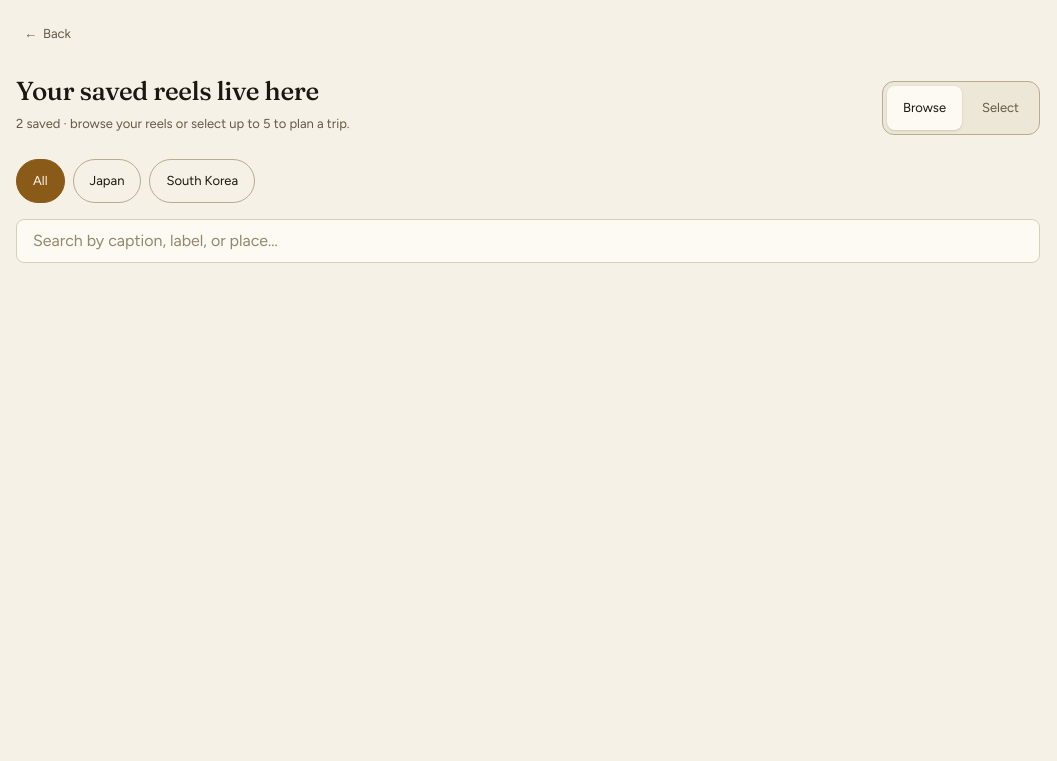
Test case: LibraryPanel › narrows the list to a chosen country filter chip
This screenshot has width=1057, height=761.
Click the button "Select" at {"x": 1000, "y": 108}, box [966,86,1035,130]
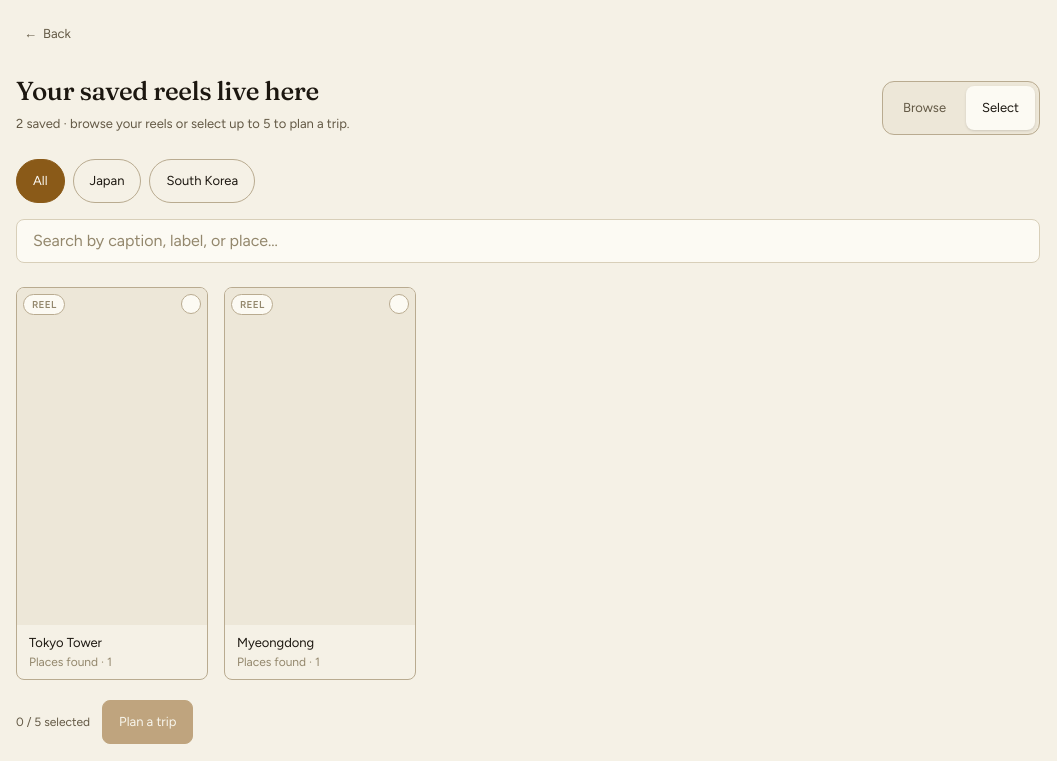
Check: the text "Tokyo Tower" is shown, box [29,635,102,650]
Check: the text "Myeongdong" is shown, box [237,635,314,650]
Click the button "Japan" at {"x": 107, "y": 180}, box [72,158,141,202]
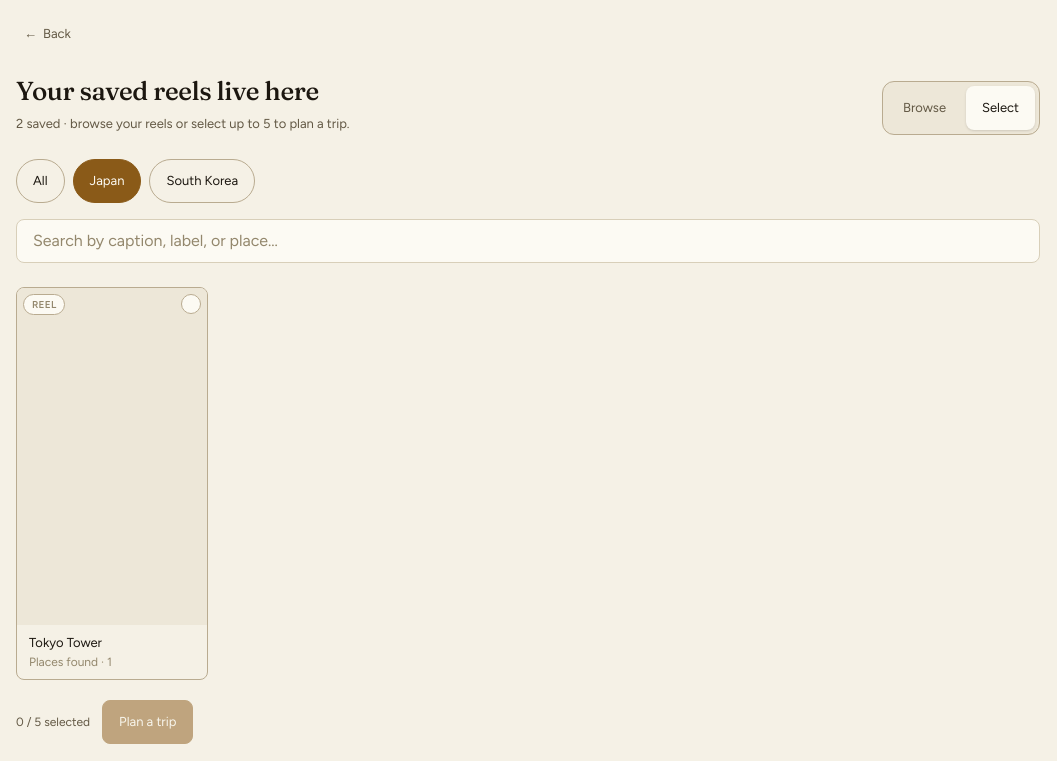
Check: the text "Tokyo Tower" is shown, box [29,635,102,650]
Check: the button "Myeongdong" is gone
